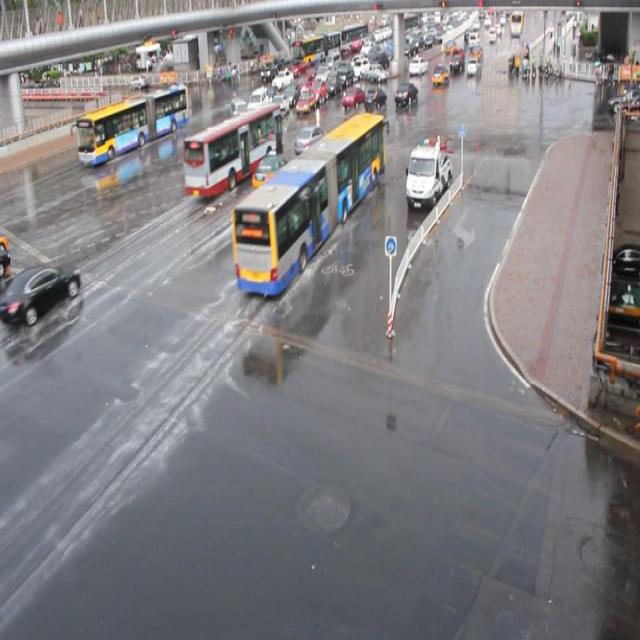bus: (403, 142, 450, 209)
car: (12, 263, 81, 324), (252, 150, 294, 188), (294, 125, 328, 155), (341, 84, 366, 109), (393, 81, 418, 105), (363, 86, 387, 111), (292, 90, 314, 116), (304, 80, 325, 106), (261, 81, 283, 105), (266, 95, 287, 118), (279, 82, 299, 106), (271, 69, 293, 89), (291, 75, 311, 96)
truck: (244, 88, 267, 120), (228, 97, 248, 132)
van: (230, 112, 385, 295), (182, 102, 283, 195), (76, 83, 189, 166)
